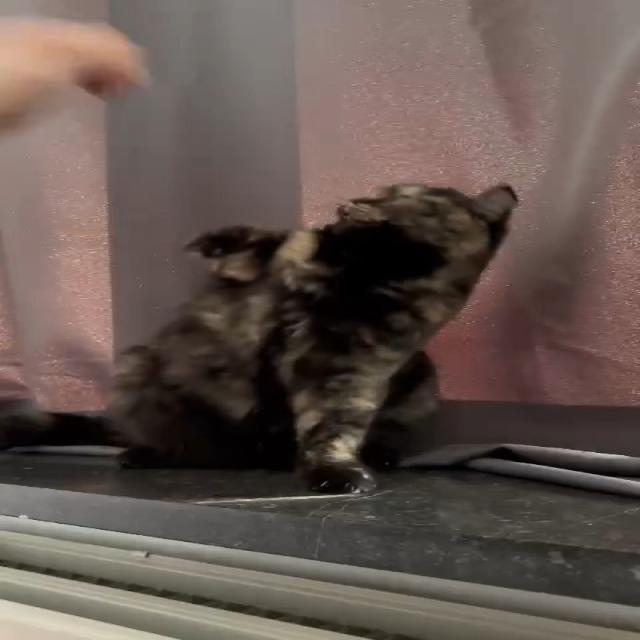authorized: (100, 180, 520, 494)
